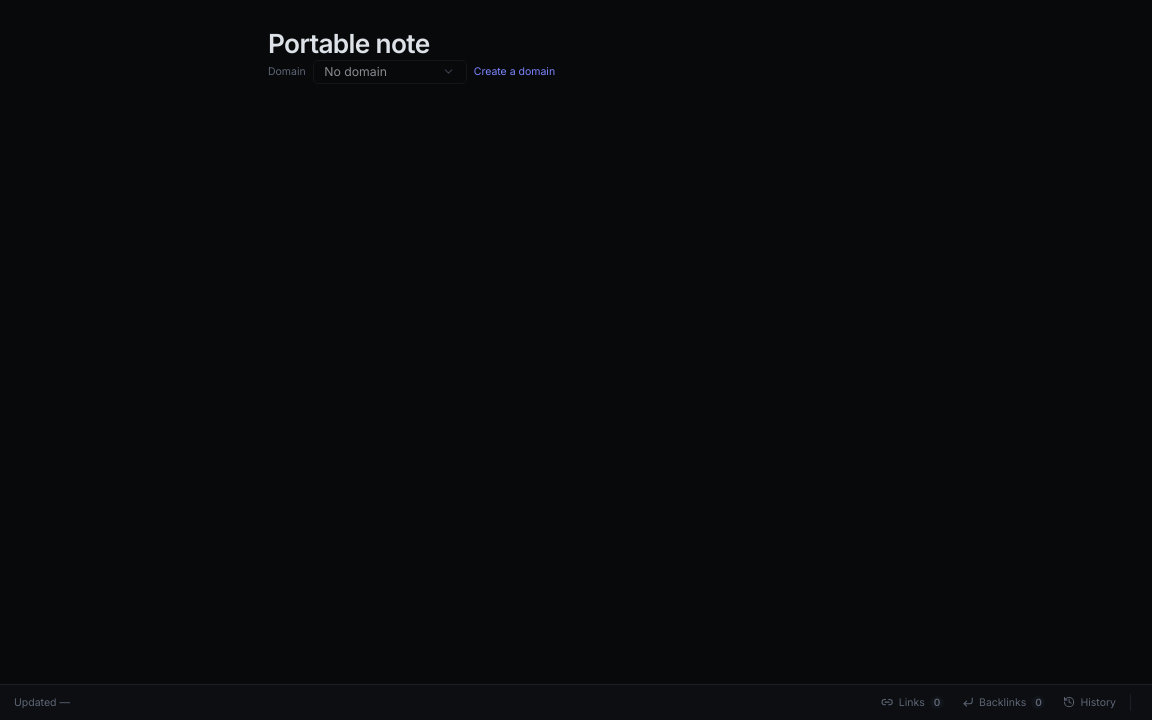
Test: NoteEditor link target search › stops saying Searching… once the search was cleared before it answered
The width and height of the screenshot is (1152, 720).
Expected: the field showing "Portable note" is shown, [268, 28, 884, 60]
Click the button "Links 0": (913, 702) [874, 692, 951, 713]
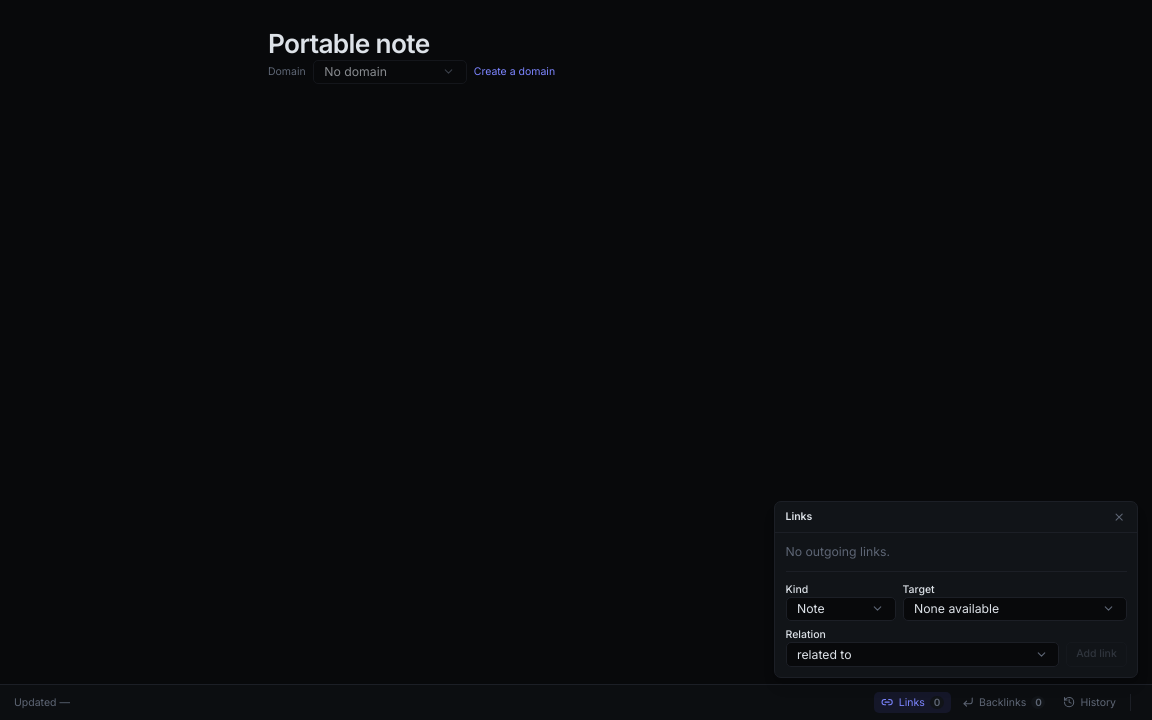
Kind: Source (a searched kind).
Click the button "Note": (840, 609) [786, 596, 896, 621]
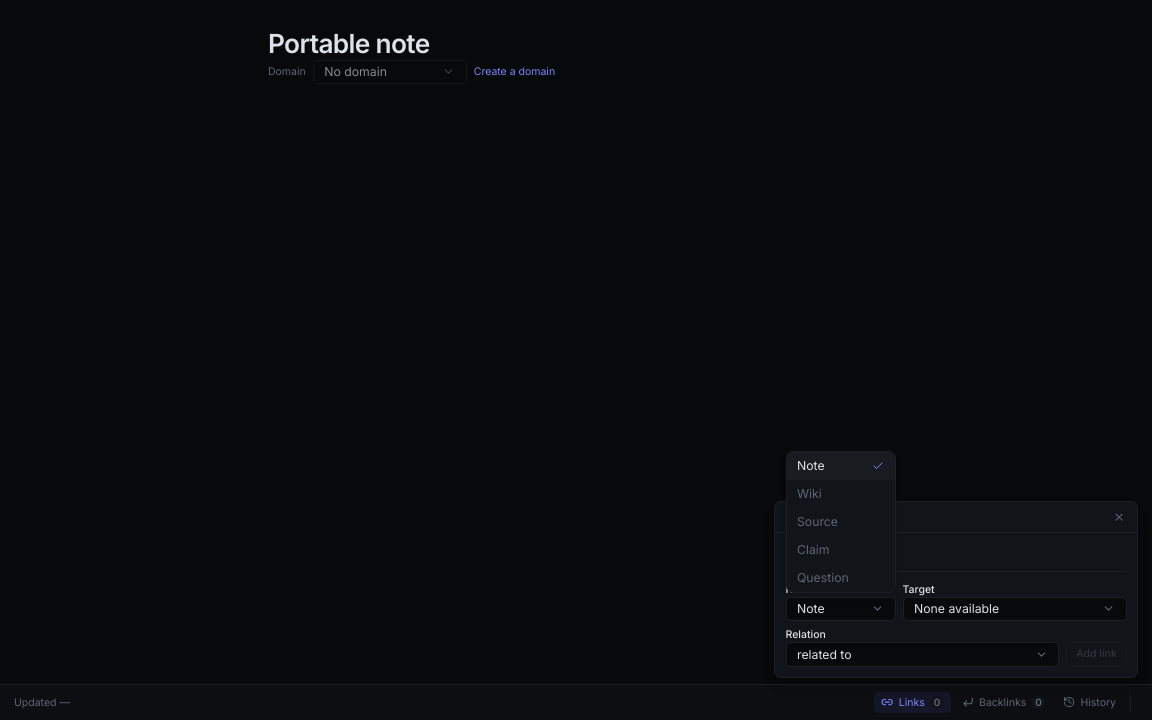
Click the option "Source": (840, 522) [786, 508, 894, 536]
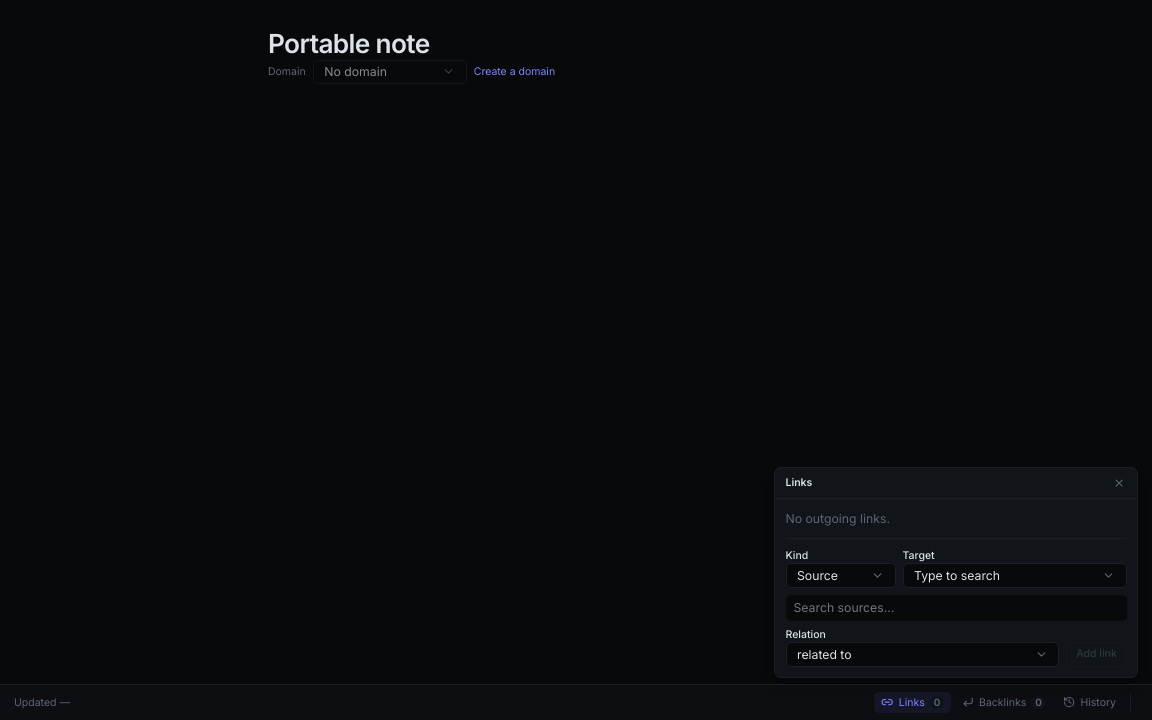
In the field labelled "Search sources": (956, 608) [786, 594, 1126, 621], type "a"
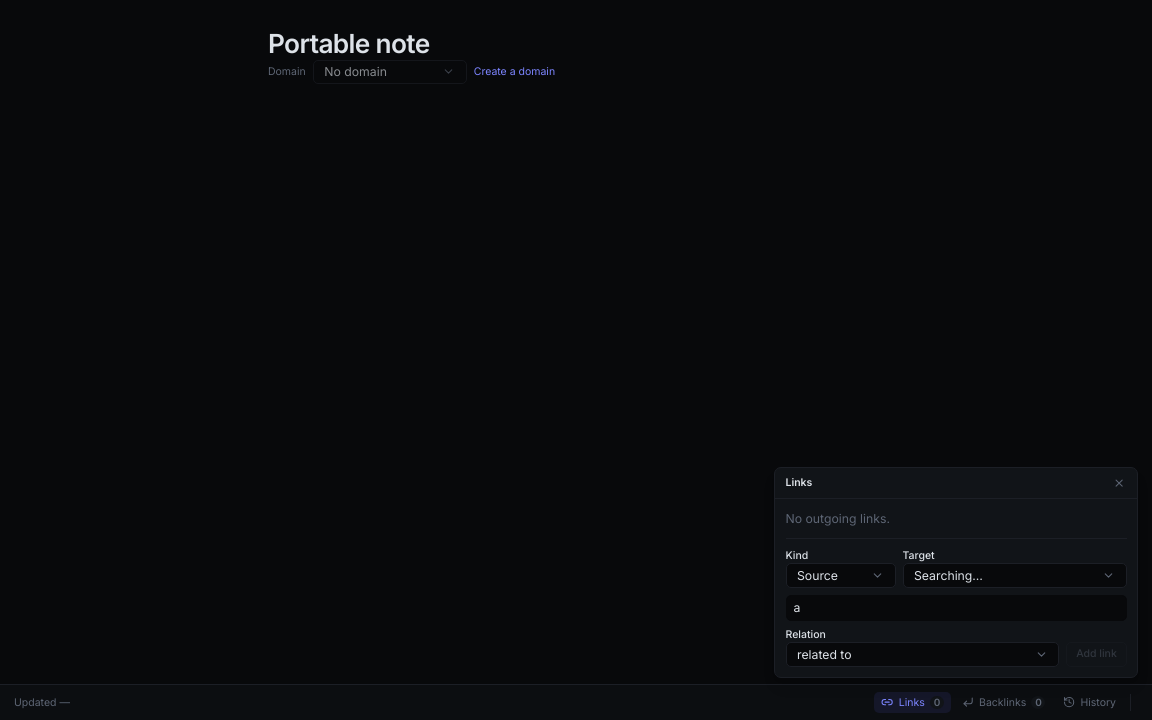
Expected: the text "Searching…" is shown, [914, 566, 983, 584]
Clear the field named "Search sources": (956, 608) [786, 594, 1126, 621]
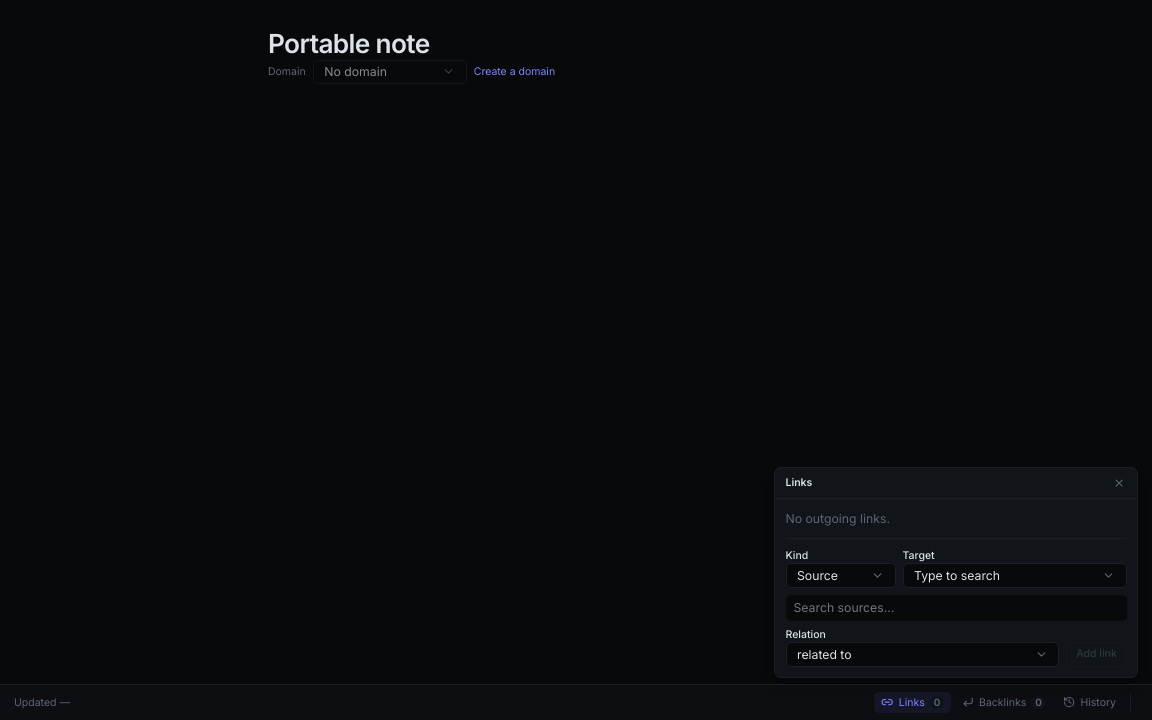
Expected: the text "Type to search" is shown, [914, 566, 1000, 584]
Expected: the button "Searching…" is gone
